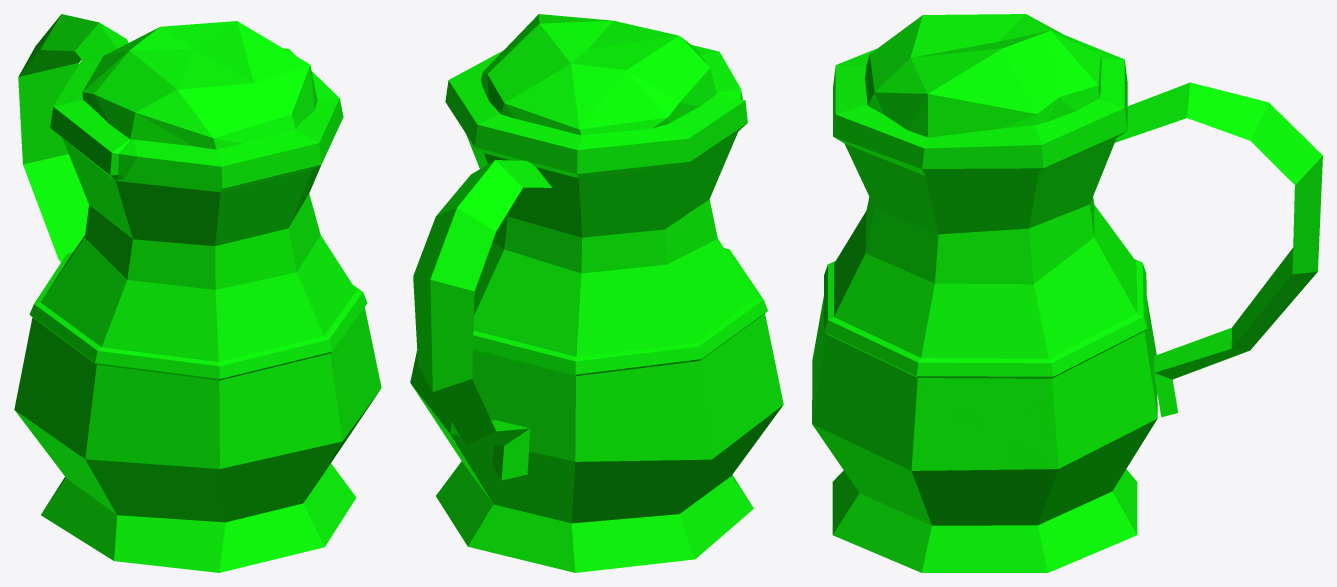
File: SM_Beer_Glass_Metal_B_Full_Fantasy.fbx
The picture shows the model from 3 angles, left to right: view 1: azimuth 30°, elevation 25°; view 2: azimuth 150°, elevation 25°; view 3: azimuth 270°, elevation 25°; orthographic projection. The views are drawn at different scales.
Visible parts, largest first — view 1: beer-glass-metal-b-full-fantasy; view 2: beer-glass-metal-b-full-fantasy; view 3: beer-glass-metal-b-full-fantasy.
Boxes of the visible parts, x1=… form: beer-glass-metal-b-full-fantasy: x1=14, y1=14, x2=381, y2=572; beer-glass-metal-b-full-fantasy: x1=410, y1=14, x2=783, y2=572; beer-glass-metal-b-full-fantasy: x1=812, y1=14, x2=1322, y2=572.
Bounding box in the file's own units: 0.1074 × 0.1619 × 0.1548.
